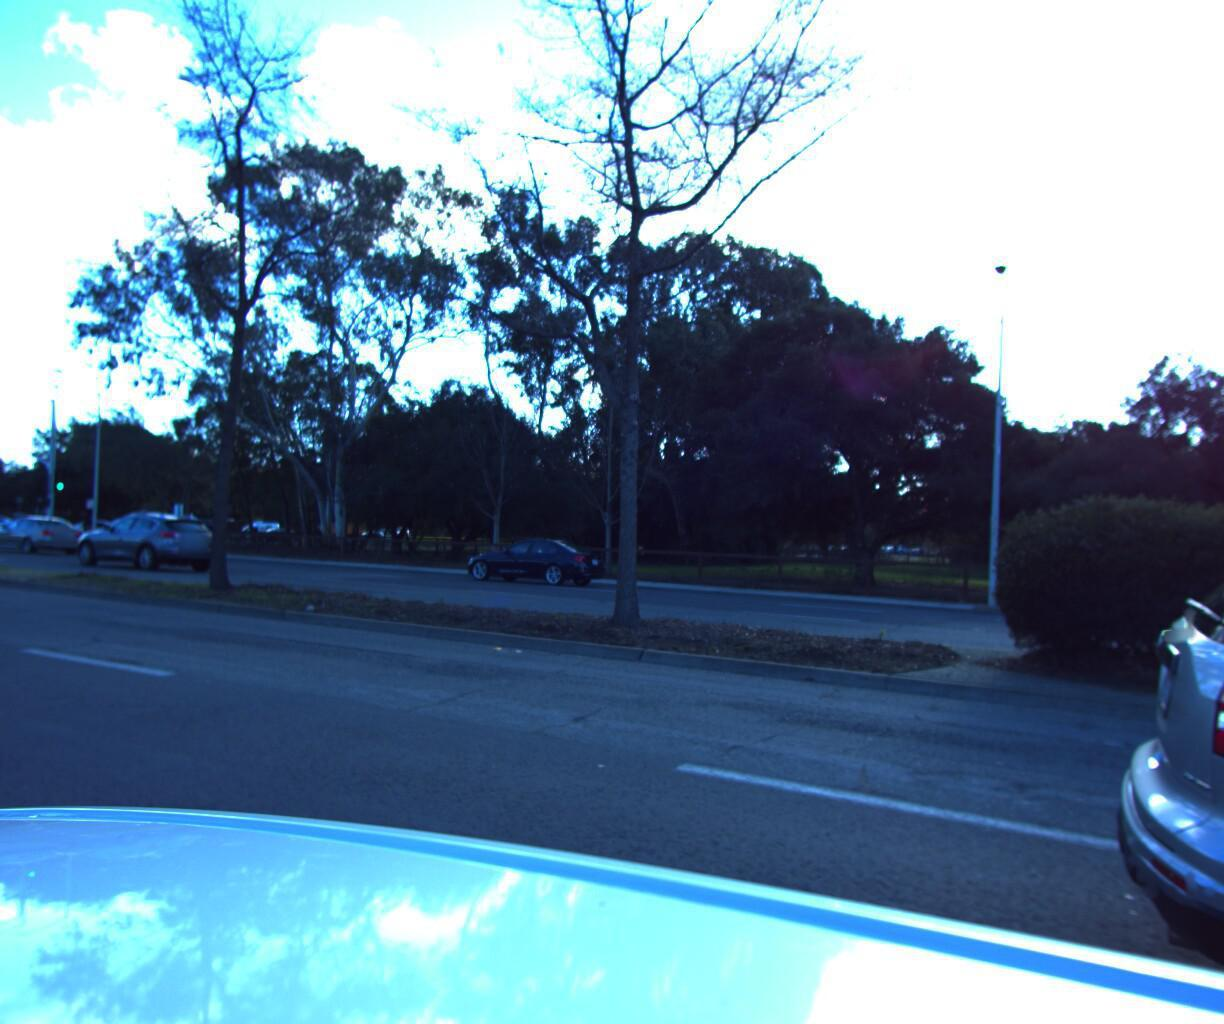car: (1030, 100, 1224, 1024), (64, 504, 229, 570), (456, 526, 614, 583), (0, 509, 93, 552), (235, 513, 291, 539), (0, 508, 21, 531)
